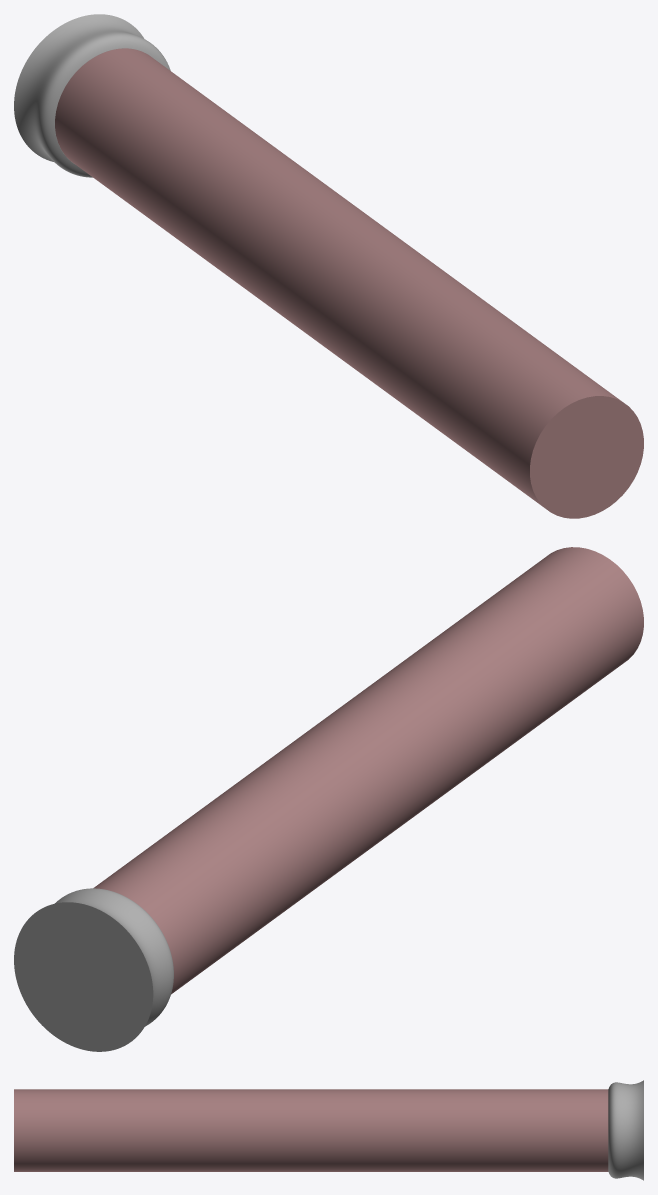
File: col1a.obj
3 views of the same model, one above another, from view 1: azimuth 30°, elevation 25°; view 2: azimuth 150°, elevation 25°; view 3: azimuth 270°, elevation 25° (orthographic). The views are drawn at different scales.
Visible parts, largest first — view 1: rot__259389, rot__256229; view 2: rot__259389, rot__256229; view 3: rot__259389, rot__256229.
Boxes of the visible parts, box(x1,y1,x2,y2) form: rot__259389: box(55, 48, 643, 518); rot__256229: box(14, 14, 170, 177); rot__259389: box(93, 547, 643, 994); rot__256229: box(14, 888, 173, 1051); rot__259389: box(14, 1089, 608, 1171); rot__256229: box(608, 1080, 643, 1180).
Bounding box in the file's own units: 0.4867 × 0.487 × 3.05.
